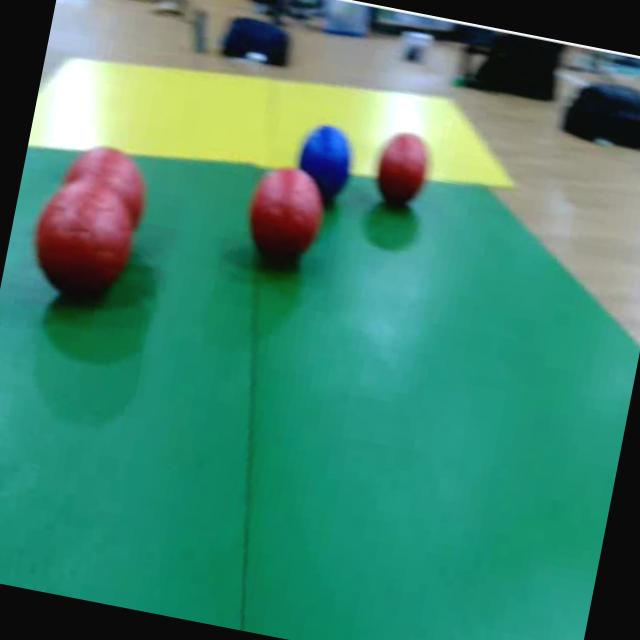blue_ball: (297, 118, 364, 180)
red_ball: (25, 172, 144, 314), (236, 167, 328, 271), (368, 125, 440, 213), (59, 135, 158, 196)
